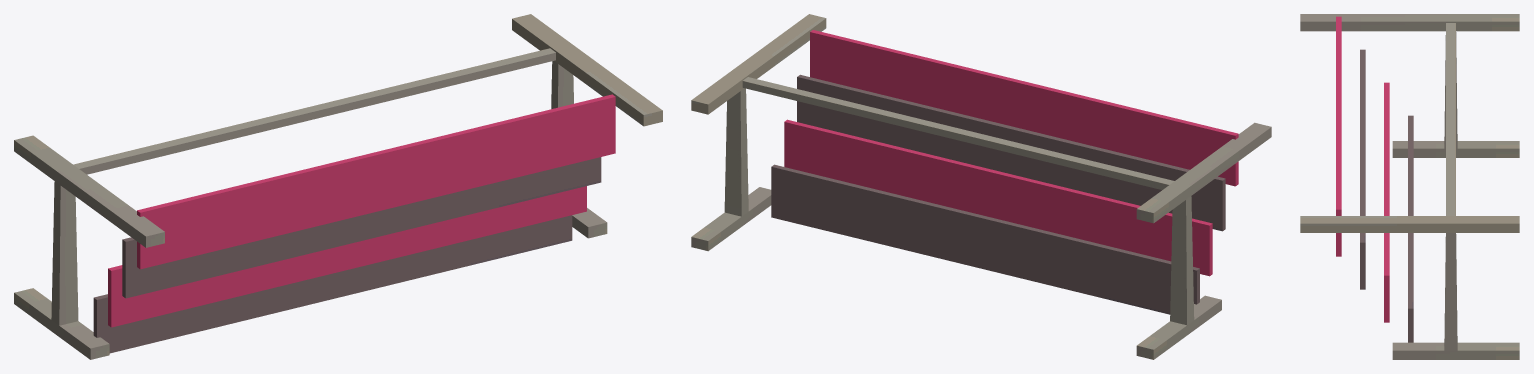
The model's file is 209_sportbench_001.gltf.
3 renders of one model, left to right at view 1: azimuth 30°, elevation 25°; view 2: azimuth 150°, elevation 25°; view 3: azimuth 270°, elevation 25°, orthographic. The views are drawn at different scales.
Visible parts, largest first — view 1: sportbench_001; view 2: sportbench_001; view 3: sportbench_001.
Boxes of the visible parts, x1=… form: sportbench_001: x1=14, y1=14, x2=662, y2=359; sportbench_001: x1=691, y1=14, x2=1271, y2=359; sportbench_001: x1=1300, y1=14, x2=1519, y2=359.
Bounding box in the file's own units: 14.54 × 4.72 × 6.42.
1 material, 1 textured.
